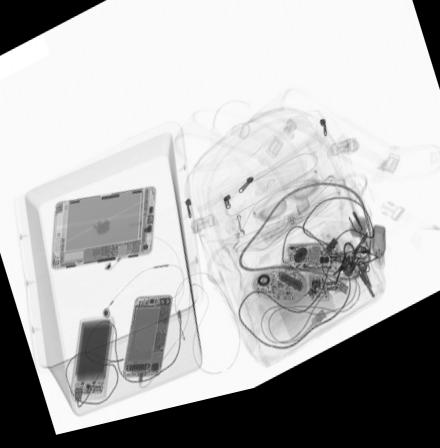Powerbank: (71, 321, 112, 404)
